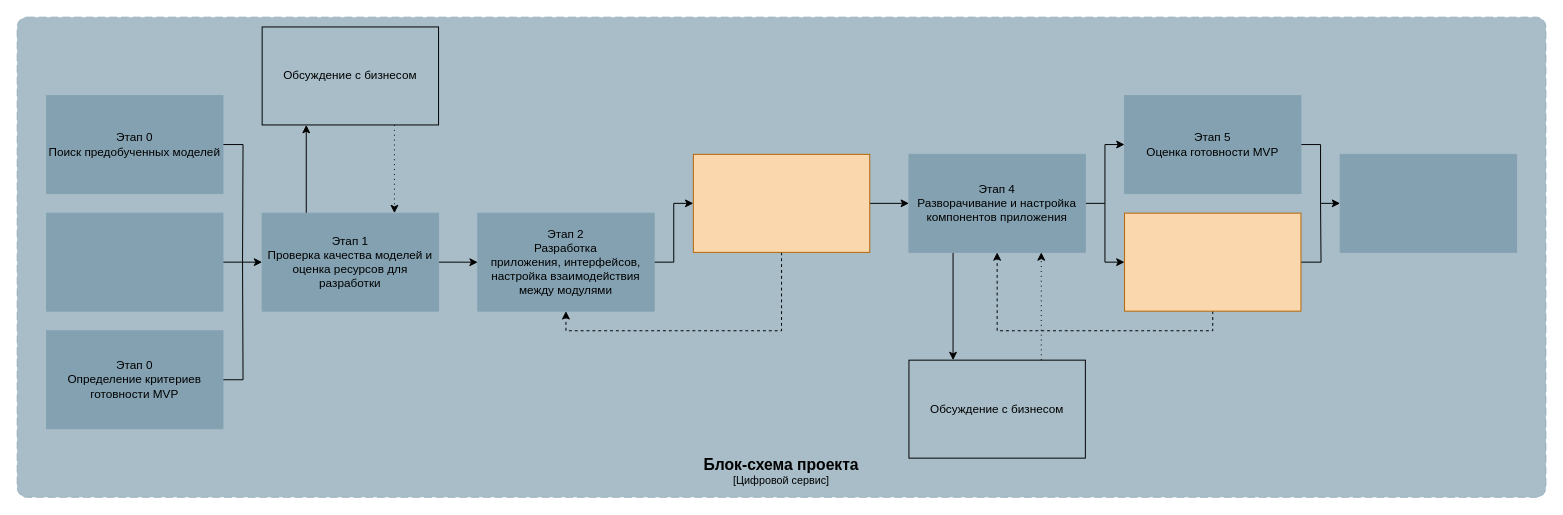
Some shapes in this 1563 by 515 pixel diagram are drawn without their labels. The shapes that lost their labels are listed below. From the top down, each one's centre as x and y in pixels, then its label:
pixel 781 202: Этап 3 Тестирование
pixel 1428 202: Этап 6 Презентация пилота
pixel 134 261: Этап 0 Определение критериев оценки качества моделей
pixel 1212 261: Этап 5 Тестирование
